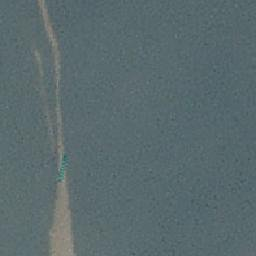debris: (51, 223, 73, 251), (54, 177, 67, 220), (56, 115, 63, 168), (48, 29, 59, 60), (38, 1, 49, 30), (33, 49, 43, 76), (55, 63, 60, 95)
